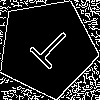T: (22, 22, 76, 77)
